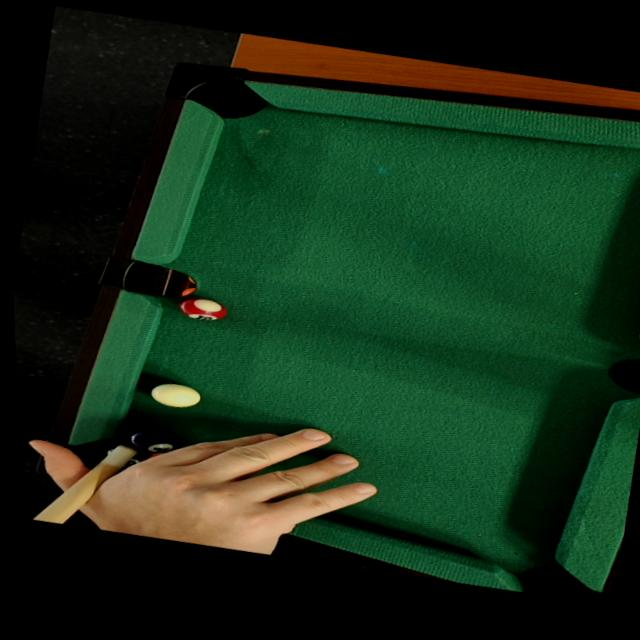cue ball: (145, 376, 210, 416)
other: (175, 290, 241, 330), (125, 424, 189, 459)
